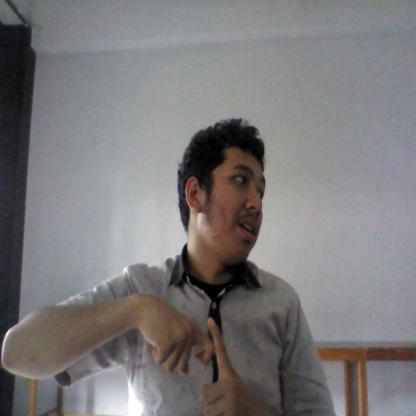K: (138, 293, 243, 416)
